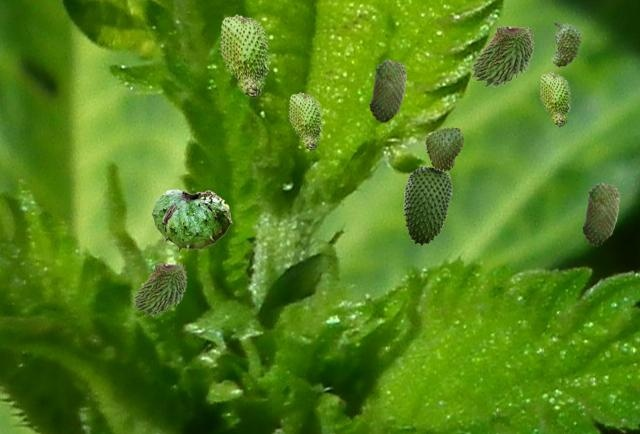guyabano: (151, 189, 231, 252), (219, 14, 269, 98), (470, 23, 533, 86), (403, 165, 451, 245), (132, 261, 186, 315), (582, 182, 619, 245), (369, 59, 406, 122), (288, 92, 322, 150), (425, 126, 464, 171), (539, 72, 570, 126), (551, 22, 582, 67)
